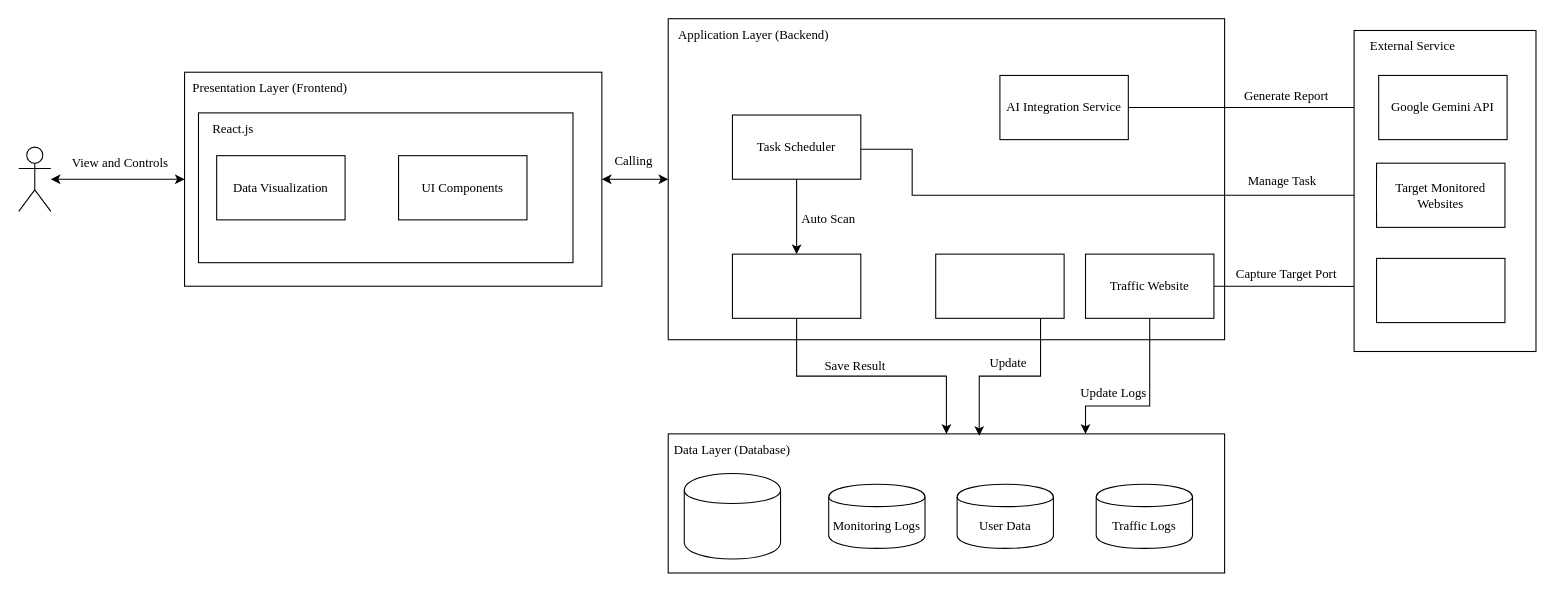
Image size: 1555x592. Some labels were removed from this diagram. Here are the shapes that lost their labels. From the top down, the box of each, then its label:
(18, 146, 51, 211): Client
(731, 253, 861, 318): HTTP and Ping Scan
(935, 253, 1064, 318): User Management
(1375, 257, 1505, 323): Hotspot Network (192.168.137.1)
(683, 472, 781, 559): Website Config Data
